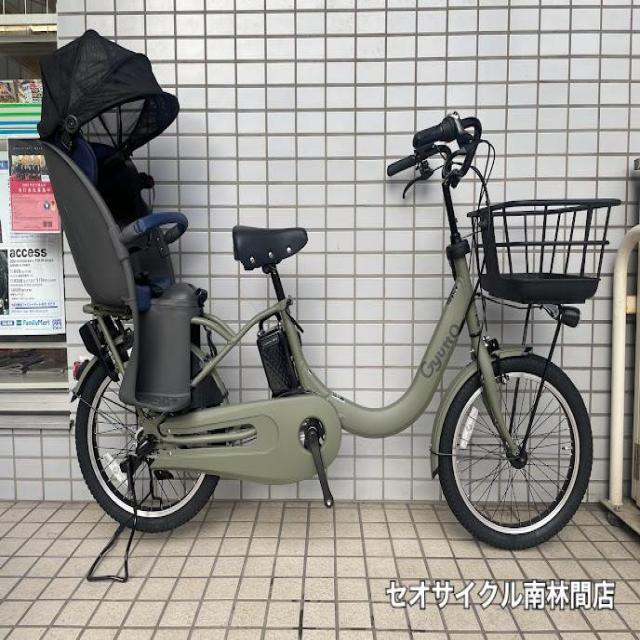basket: (464, 197, 629, 306)
battery: (255, 305, 302, 406)
childseat: (34, 38, 214, 412)
